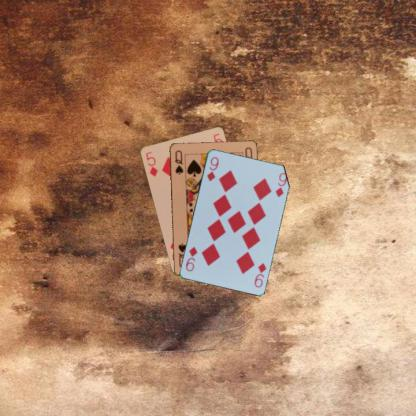5d: (143, 149, 159, 177)
9d: (251, 260, 268, 288), (204, 154, 220, 182)
Qs: (172, 147, 184, 176)
